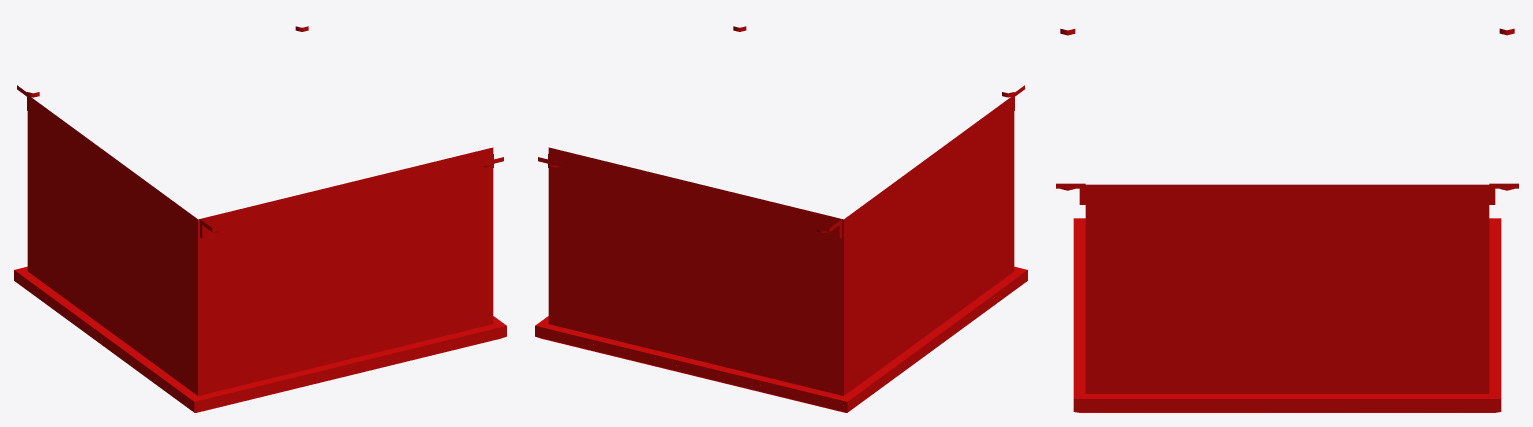
3 views of the same model, side by side, from view 1: azimuth 30°, elevation 25°; view 2: azimuth 150°, elevation 25°; view 3: azimuth 270°, elevation 25° (orthographic). The views are drawn at different scales.
Parts seen in each view (by area): view 1: Mesh; view 2: Mesh; view 3: Mesh.
Part boxes in pixels (x1,y1,x2,y2): Mesh: [14, 26, 506, 412]; Mesh: [535, 26, 1027, 412]; Mesh: [1056, 28, 1518, 412].
Size of the model in its own units: 0.36 by 0.21 by 0.39.
